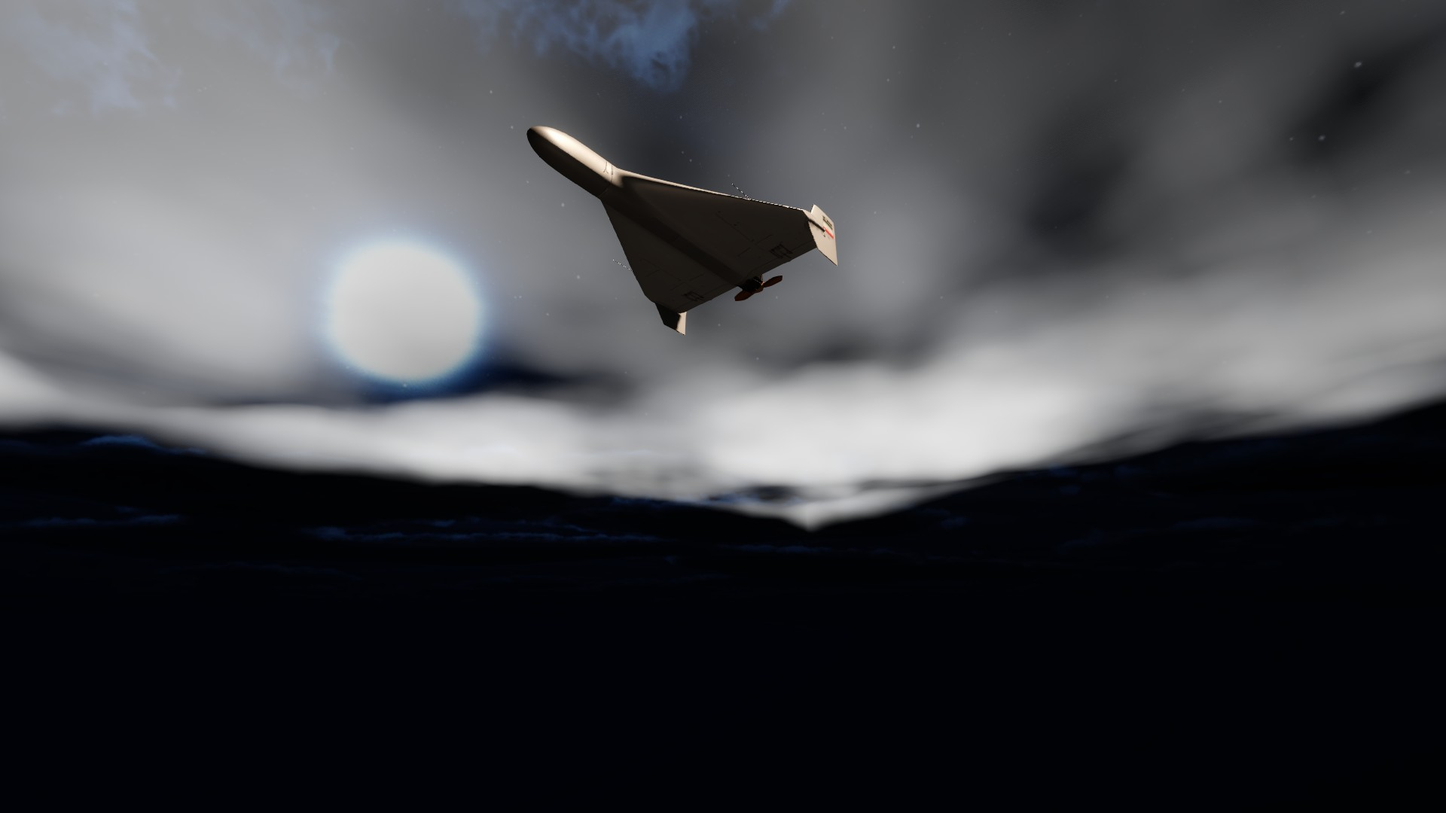shahed: (526, 126, 837, 335)
